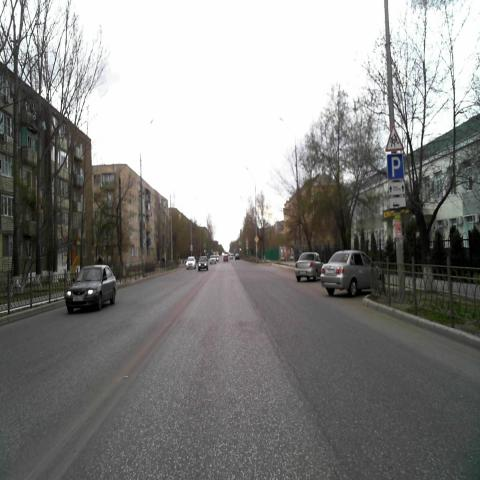1_23: (386, 124, 404, 152)
8_6_4: (389, 196, 406, 208)
